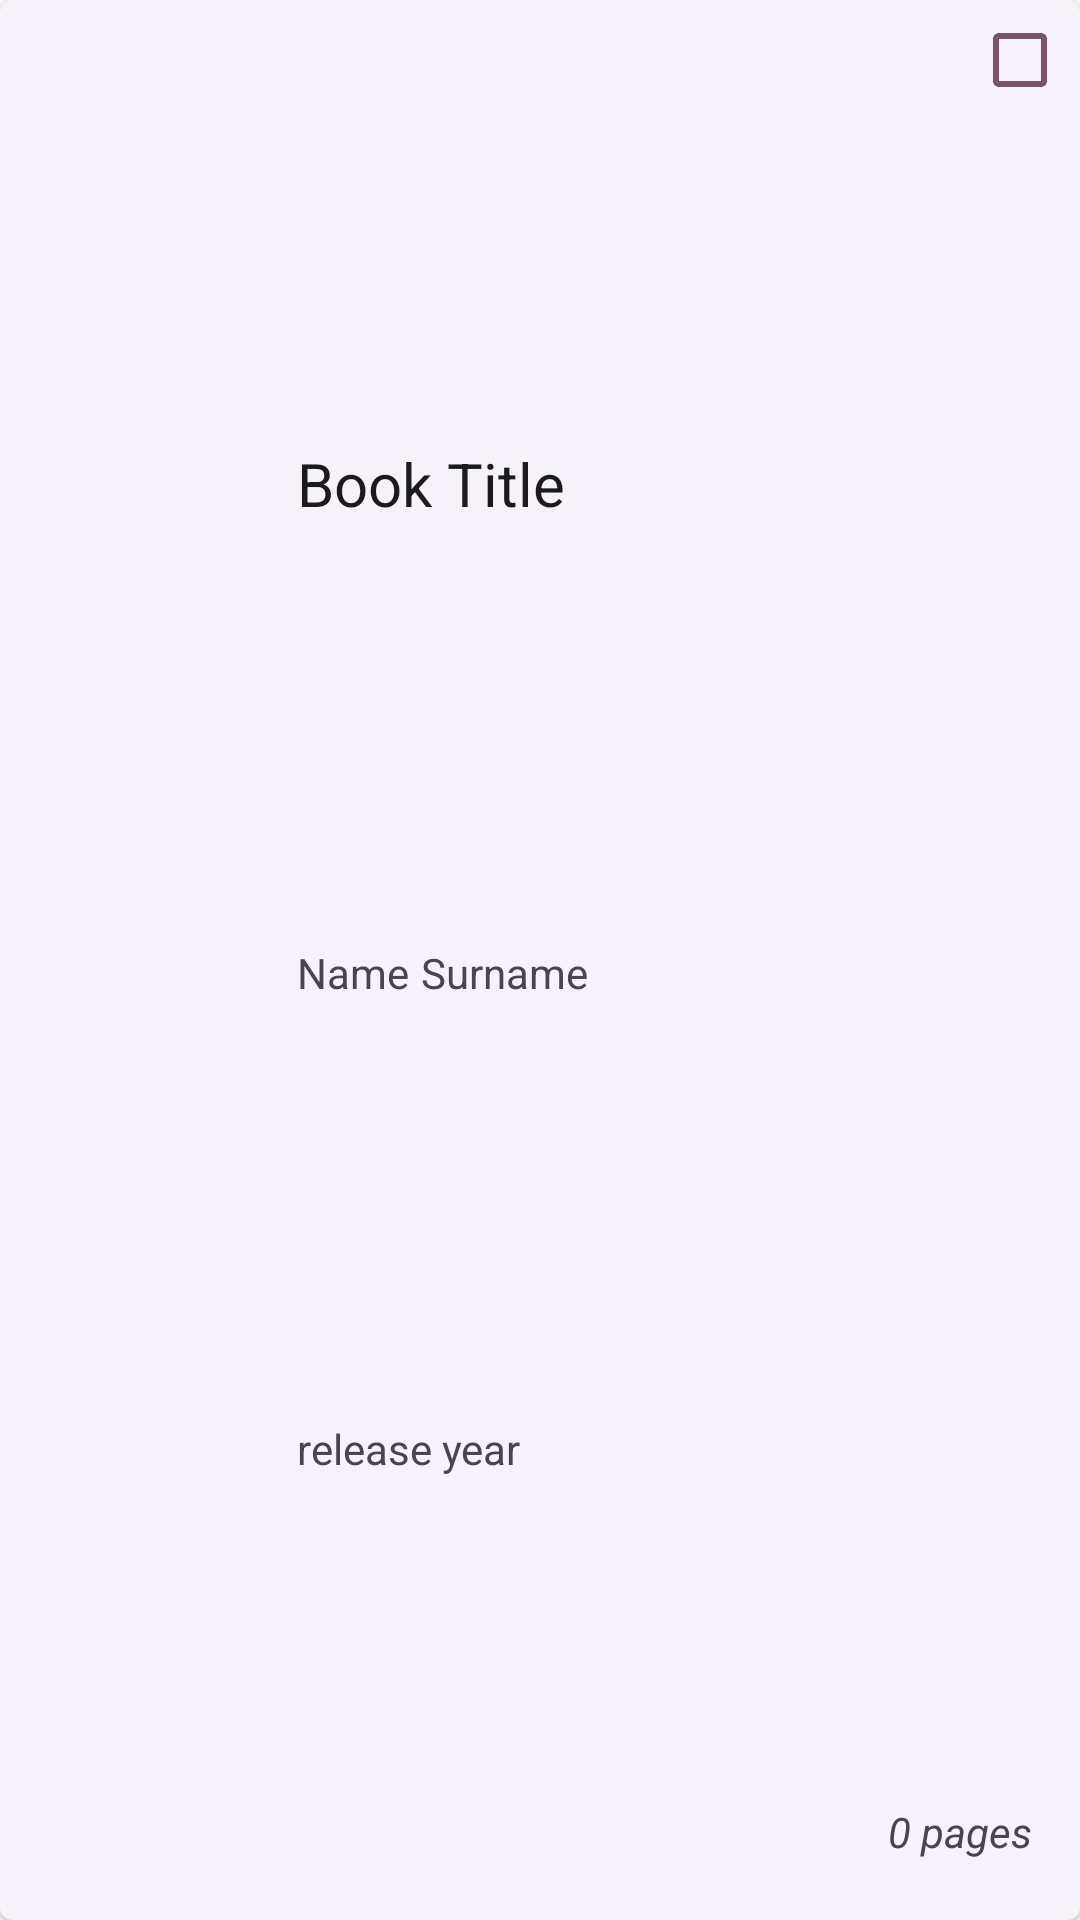

Screen size 1080*1920. Icon name, then its box in pixels as (x1, y1, x2, y2):
check box blank: (993, 33, 1047, 87)
